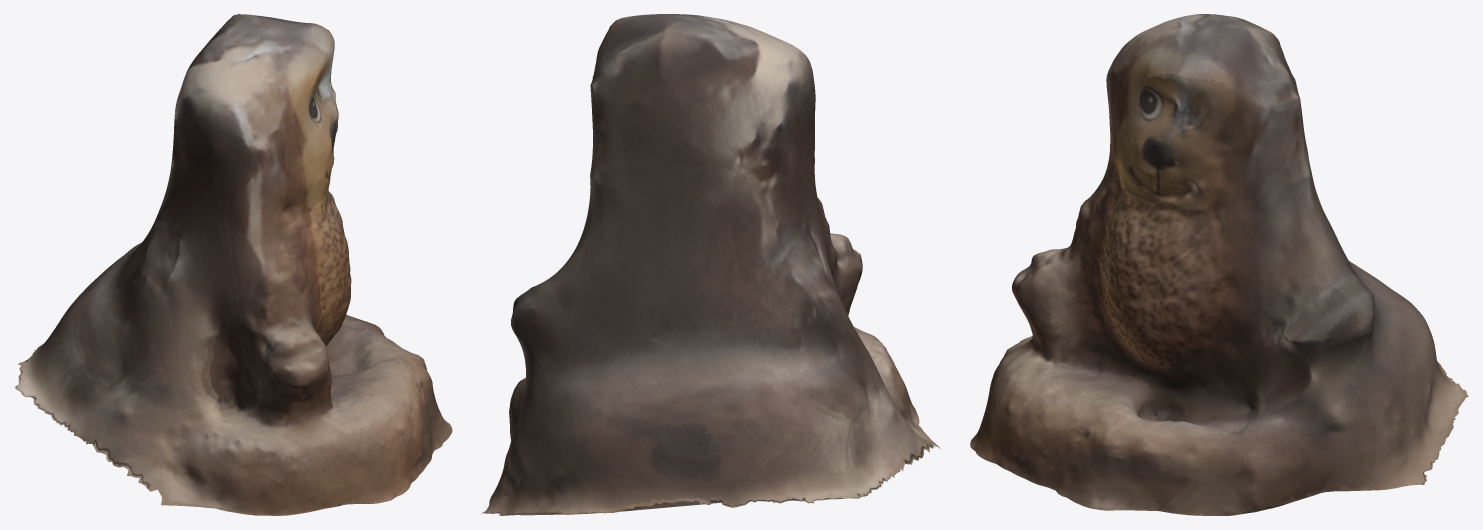
The model's file is nutripuntos.glb.
The picture shows the model from 3 angles, left to right: view 1: azimuth 30°, elevation 25°; view 2: azimuth 150°, elevation 25°; view 3: azimuth 270°, elevation 25°; orthographic projection. The views are drawn at different scales.
Visible parts, largest first — view 1: mainMeshNode; view 2: mainMeshNode; view 3: mainMeshNode.
Boxes of the visible parts, x1=… form: mainMeshNode: x1=14, y1=14, x2=452, y2=515; mainMeshNode: x1=481, y1=14, x2=940, y2=515; mainMeshNode: x1=970, y1=14, x2=1468, y2=515.
Size of the model in its own units: 3.27 by 3.55 by 3.86.
1 material, 1 textured.
